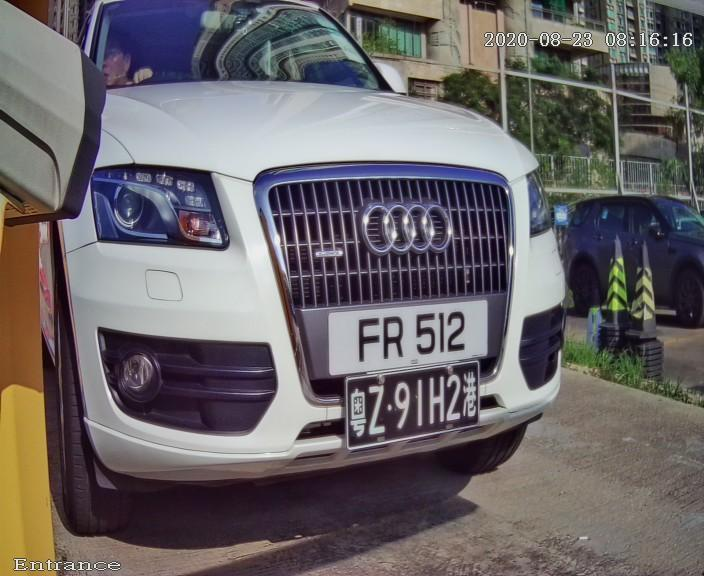Car: (19, 3, 613, 556)
License Plate: (312, 271, 509, 407)
